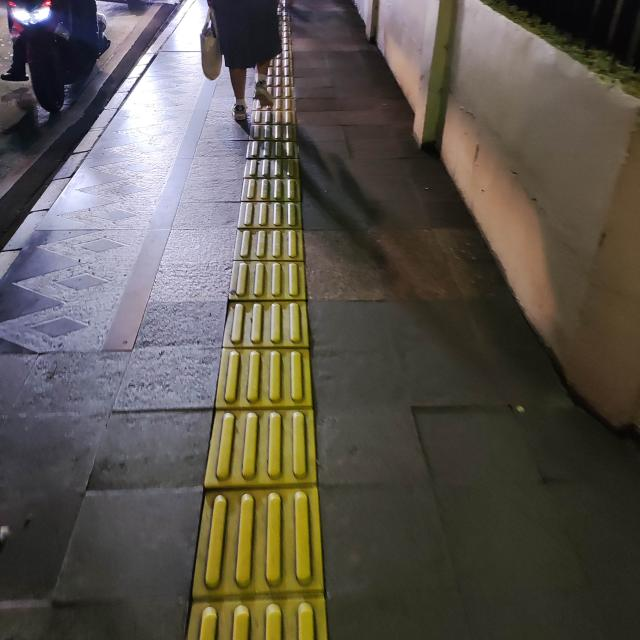lurus: (190, 111, 326, 640)
